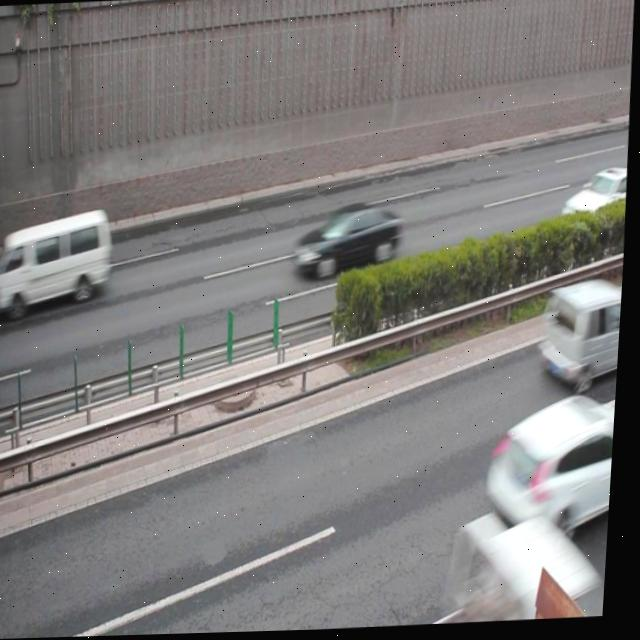bus: (421, 513, 602, 627)
car: (486, 394, 621, 535), (292, 201, 406, 279), (559, 171, 630, 240)
truck: (4, 209, 118, 315), (536, 277, 626, 388)
